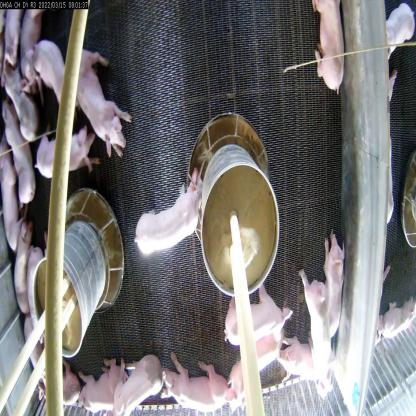Pig: (60, 38, 132, 159), (134, 179, 210, 263), (294, 267, 338, 399), (300, 0, 354, 100), (156, 356, 244, 416), (103, 338, 171, 415), (215, 288, 292, 353), (25, 115, 98, 178), (0, 95, 37, 214), (314, 221, 352, 336), (225, 332, 287, 400), (272, 335, 340, 394), (74, 352, 136, 415), (9, 213, 30, 293), (0, 144, 14, 248)
